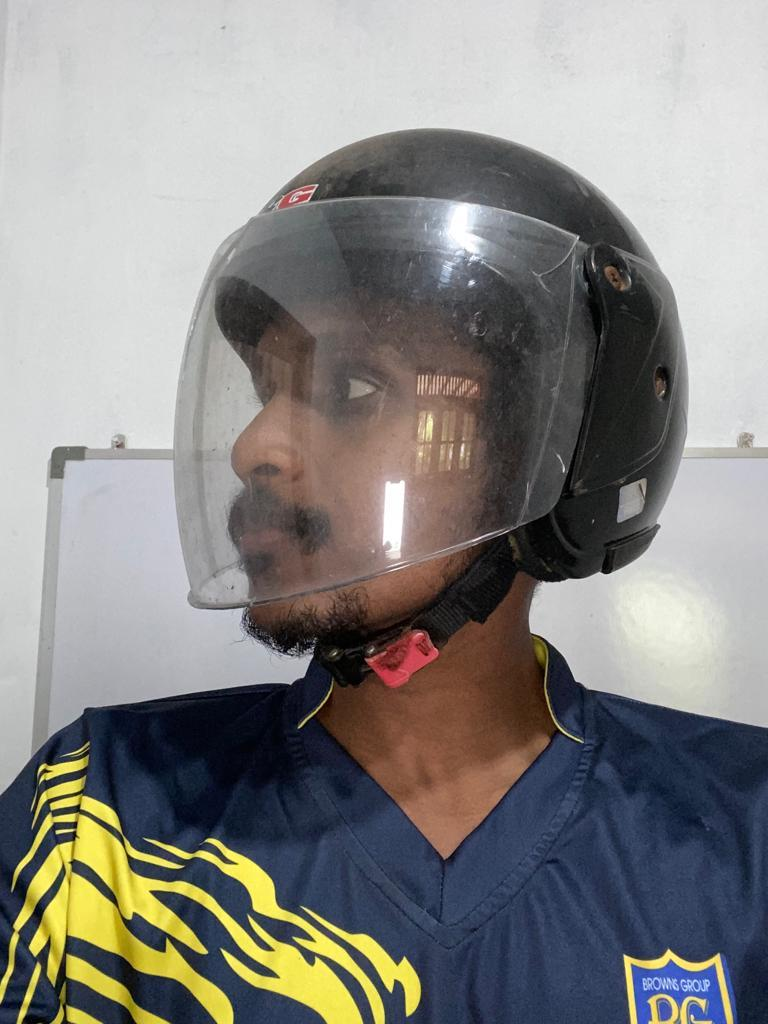helmet: (171, 126, 689, 599)
